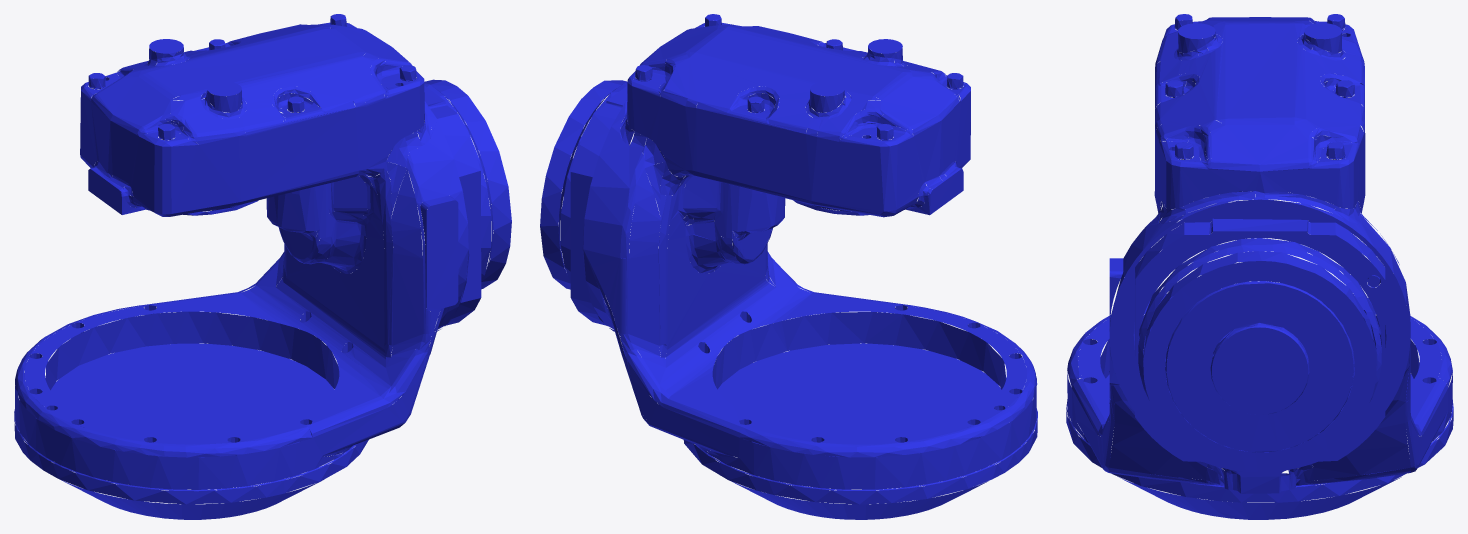
3 renders of one model, left to right at view 1: azimuth 30°, elevation 25°; view 2: azimuth 150°, elevation 25°; view 3: azimuth 270°, elevation 25°, orthographic. The views are drawn at different scales.
Parts seen in each view (by area): view 1: /Link5/Link5_003-mesh/0; view 2: /Link5/Link5_003-mesh/0; view 3: /Link5/Link5_003-mesh/0.
Boxes of the visible parts, box(x1,y1,x2,y2) form: /Link5/Link5_003-mesh/0: box(14, 14, 511, 519); /Link5/Link5_003-mesh/0: box(540, 14, 1037, 519); /Link5/Link5_003-mesh/0: box(1066, 14, 1453, 519).
Size of the model in its own units: 0.2555 by 0.23 by 0.1841.
